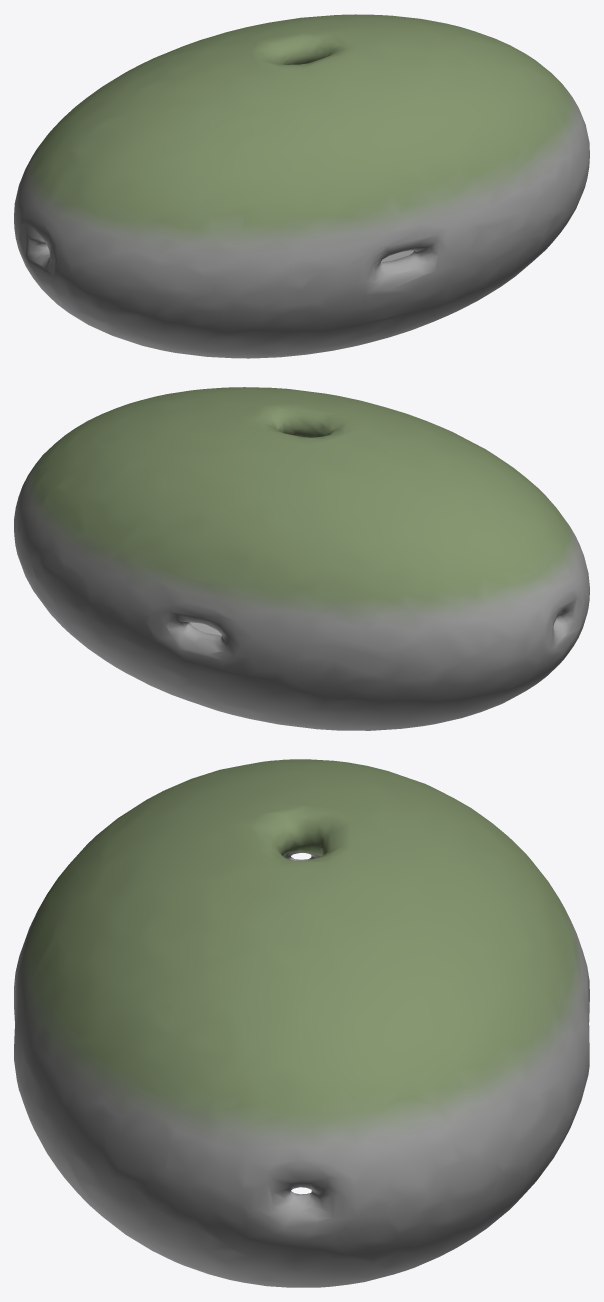
The model's file is sample-wreck-lod1.glb.
3 renders of one model, top to bottom at view 1: azimuth 30°, elevation 25°; view 2: azimuth 150°, elevation 25°; view 3: azimuth 270°, elevation 25°, orthographic. The views are drawn at different scales.
Parts seen in each view (by area): view 1: Part_Wreck; view 2: Part_Wreck; view 3: Part_Wreck.
Boxes of the visible parts, bbox=[...] form: Part_Wreck: bbox=[14, 14, 589, 358]; Part_Wreck: bbox=[14, 387, 589, 730]; Part_Wreck: bbox=[14, 759, 589, 1287].
Bounding box in the file's own units: 7 × 3.46 × 4.79.
